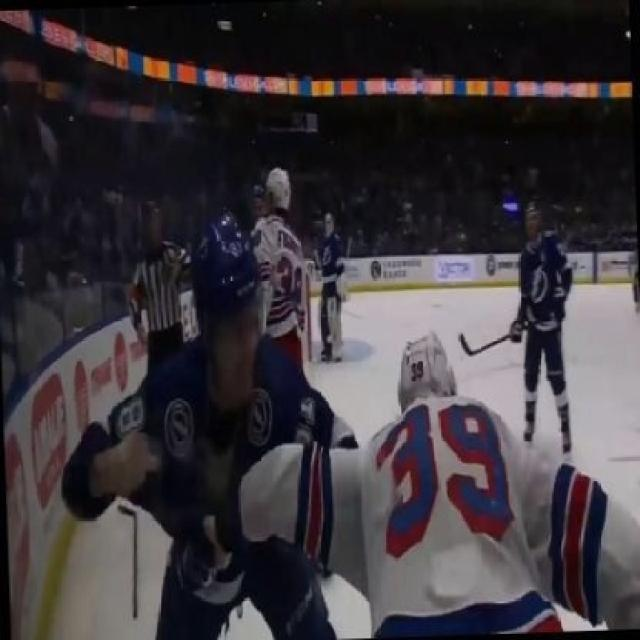fight: (46, 216, 637, 638)
non-fight: (440, 191, 591, 463), (237, 164, 307, 390), (127, 211, 193, 381), (295, 206, 360, 366)
